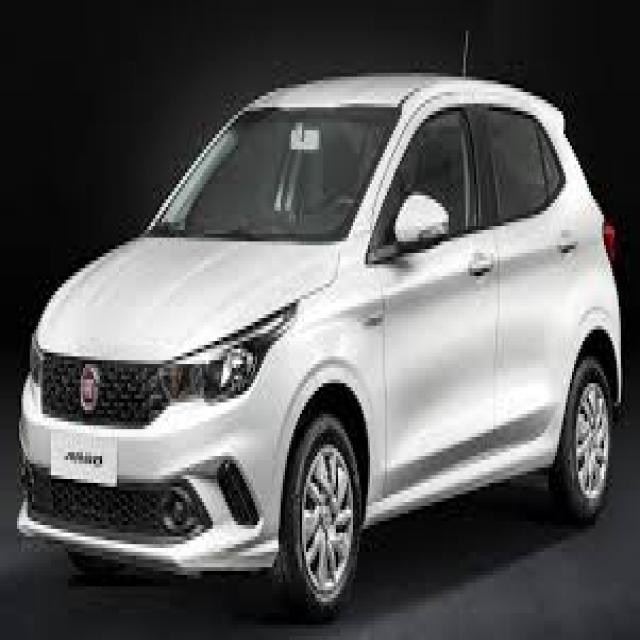car: (9, 21, 632, 619)
